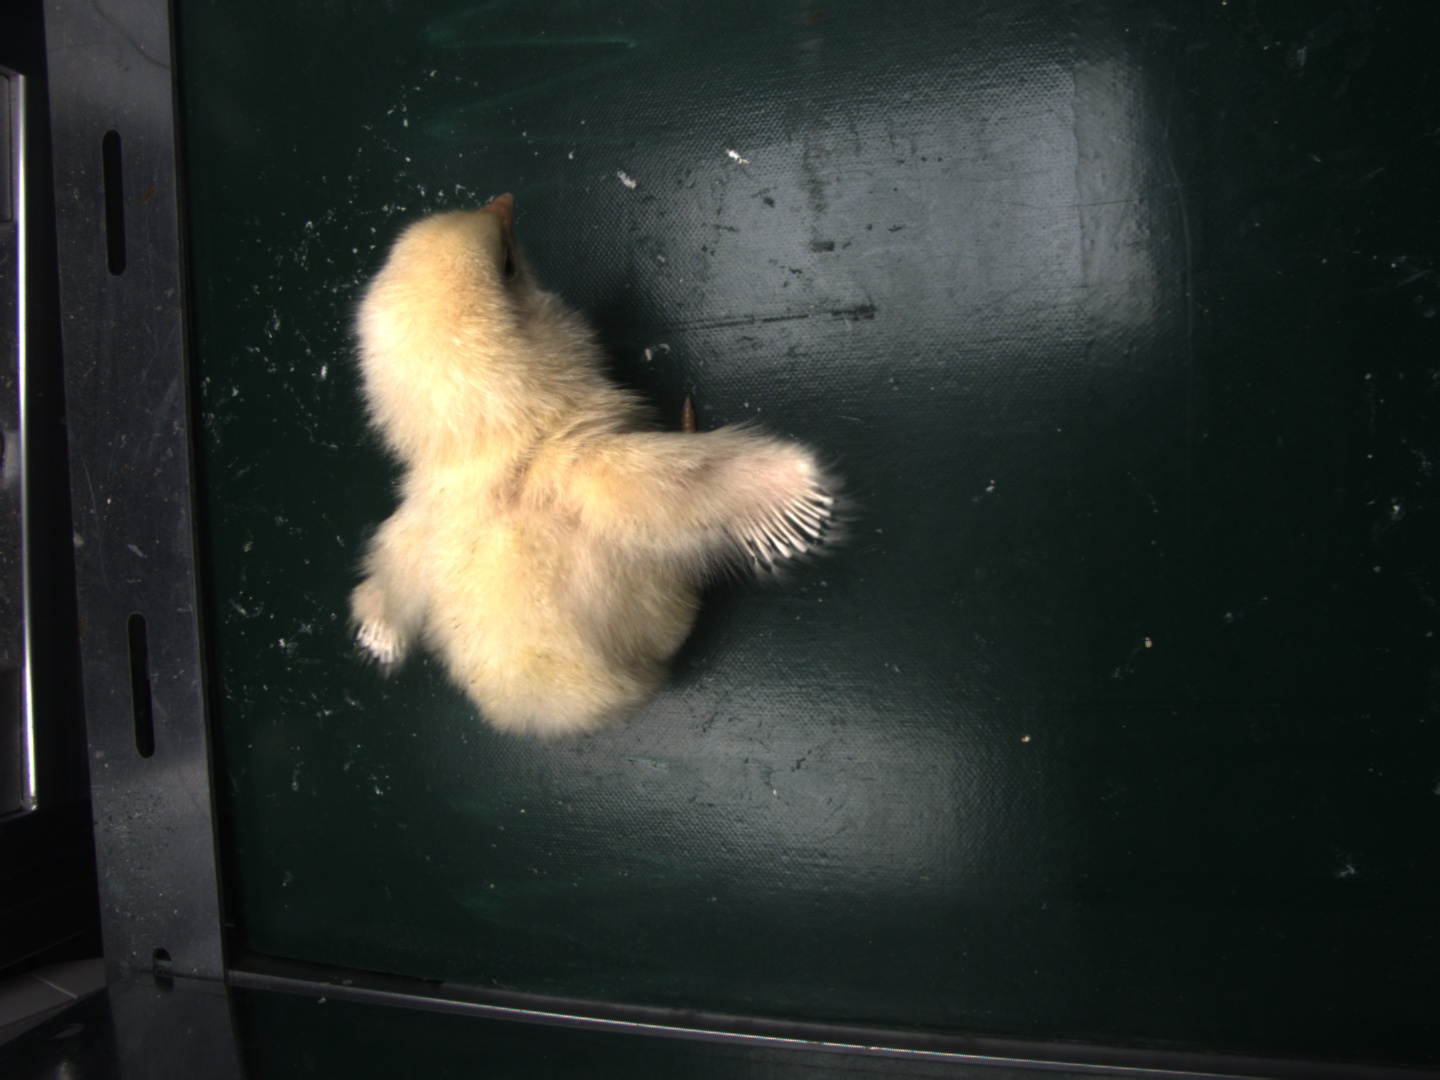male: (736, 482, 835, 560)
